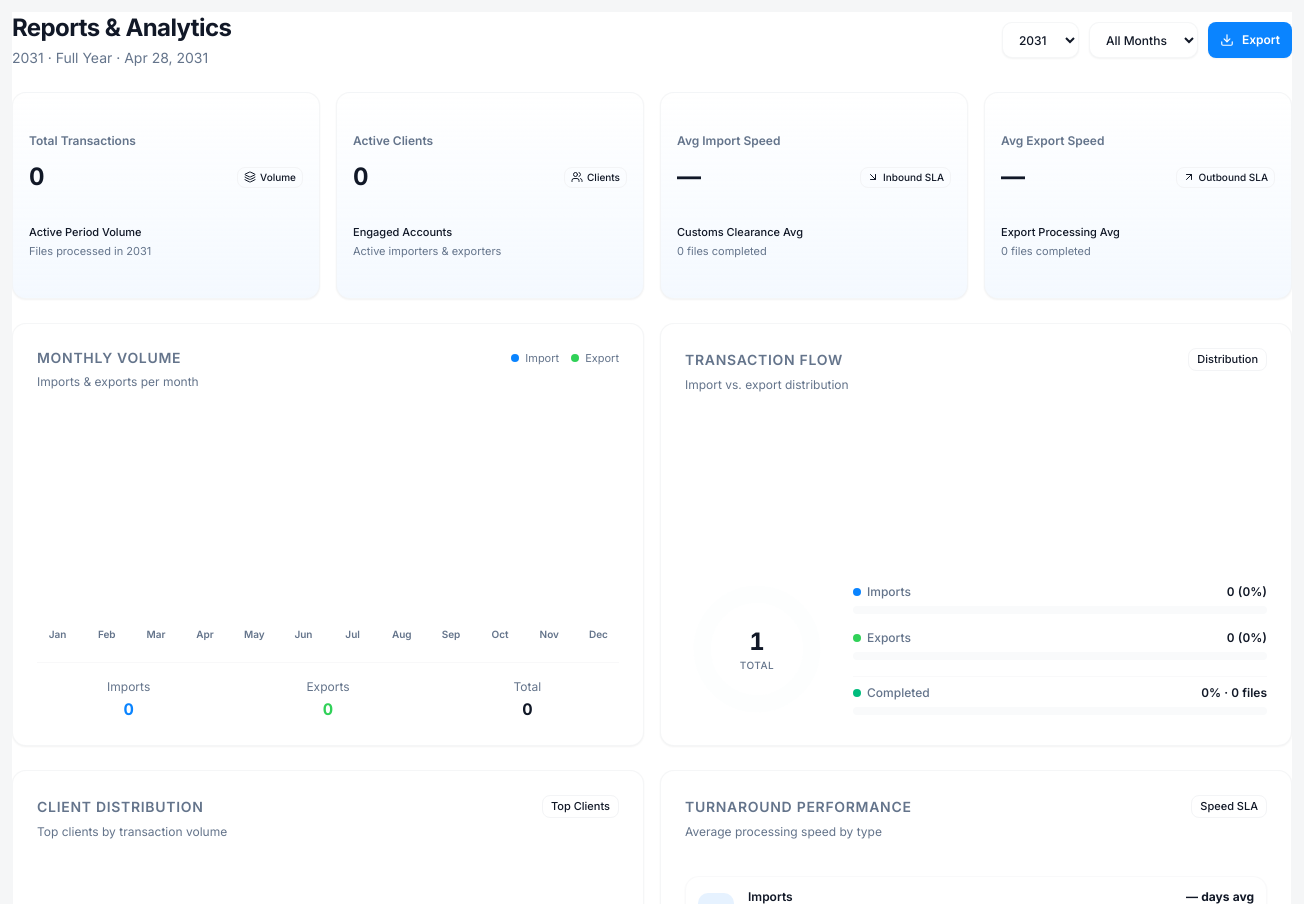
Test case: ReportsAnalytics › updates report queries when the selected year changes
The image size is (1304, 904).
Select "2026" in the 1st dropdown. click: (1040,40)
box: [1002,22,1079,58]
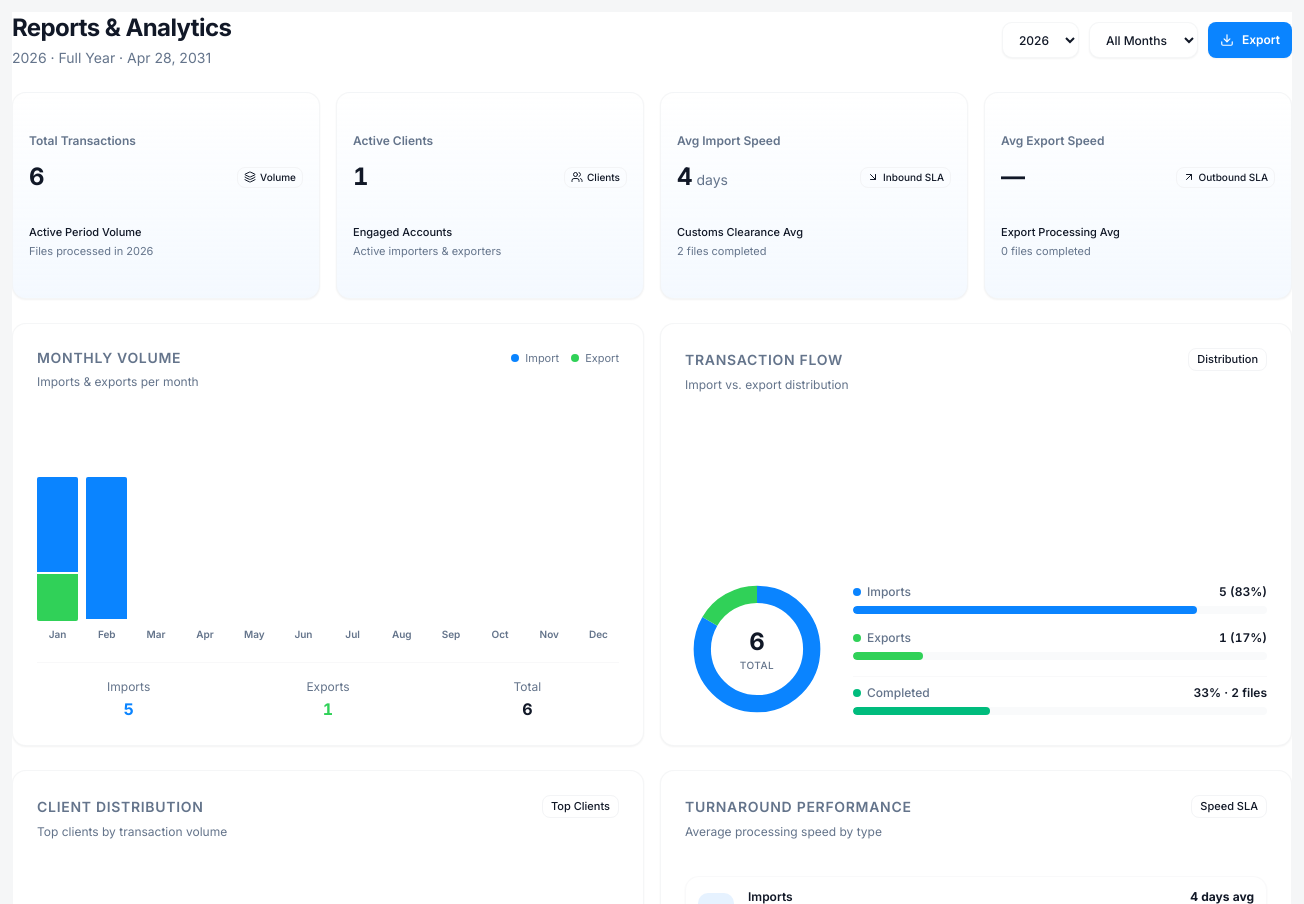
Expected: the text "2026 · Full Year · Apr 28, 2031" is shown, [12,48,231,68]
